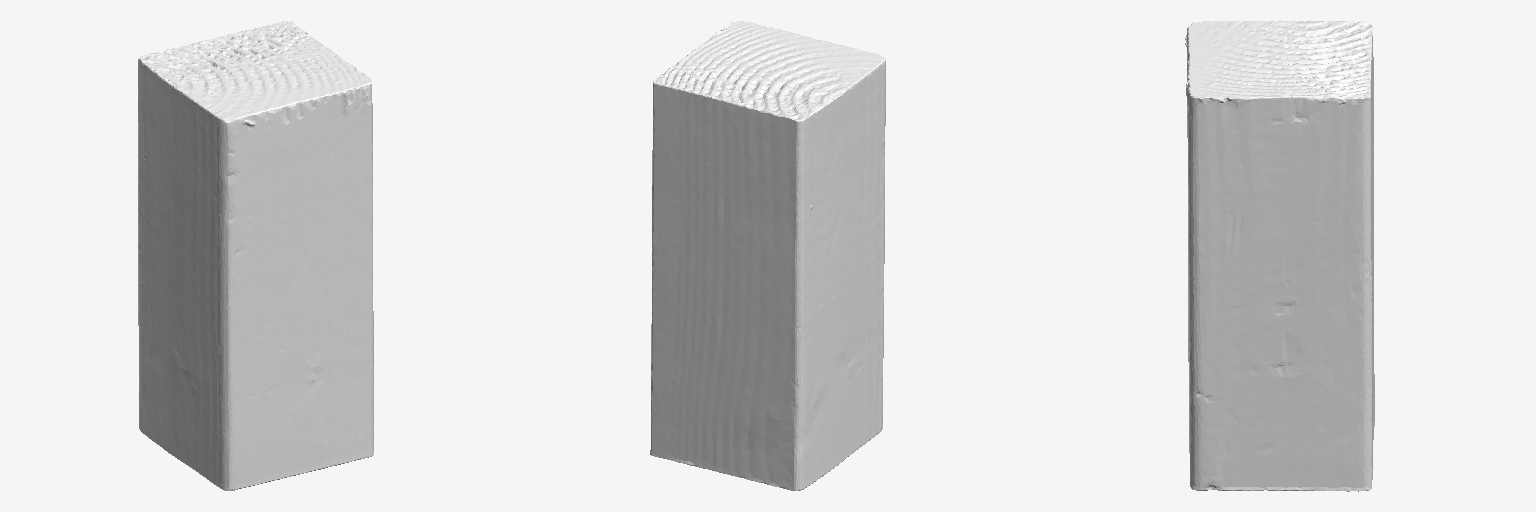
The robot description file, URDF, robot "spatula":
<robot name="spatula">
	<link name="base_link">
		<visual>
			<origin xyz="0.046581043820340895 0.07860574843636466 -0.013189187861051138" rpy="0.0 0.0 0.0" />
			<geometry>
				<mesh filename="033_spatula/google_16k/textured.obj" scale="1 1 1" />
			</geometry>
			<material name="texture">
				<color rgba="1.0 1.0 1.0 1.0" />
			</material>
		</visual>
		<collision>
			<origin xyz="0.046581043820340895 0.07860574843636466 -0.013189187861051138" rpy="0.0 0.0 0.0" />
			<geometry>
				<mesh filename="033_spatula/google_16k/textured_vhacd.obj" scale="1 1 1" />
			</geometry>
		</collision>
		<inertial>
			<mass value="0.0515" />
			<inertia ixx="1e-3" ixy="0.0" ixz="0.0" iyy="1e-3" iyz="0.0" izz="1e-3" />
		</inertial>
	</link>
</robot>

--- What the picture shows (computed from the rendered views, not written in the file) ---
3 views of the same robot in one strip: view 1: azimuth 30°, elevation 25°; view 2: azimuth 150°, elevation 25°; view 3: azimuth 270°, elevation 25° (orthographic).
Robot: spatula — 1 links, 0 joints (none); root link base_link; default pose: every joint at zero.
Links seen in each view (by area): view 1: base_link; view 2: base_link; view 3: base_link.
Link boxes in pixels (x1,y1,x2,y2): base_link: (138, 21, 373, 490); base_link: (650, 21, 885, 490); base_link: (1185, 20, 1374, 491).
Size in the robot's own frame: 0.0906 by 0.0899 by 0.206 metres.
1 mesh visuals loaded from 1 distinct referenced files (1 OBJ).